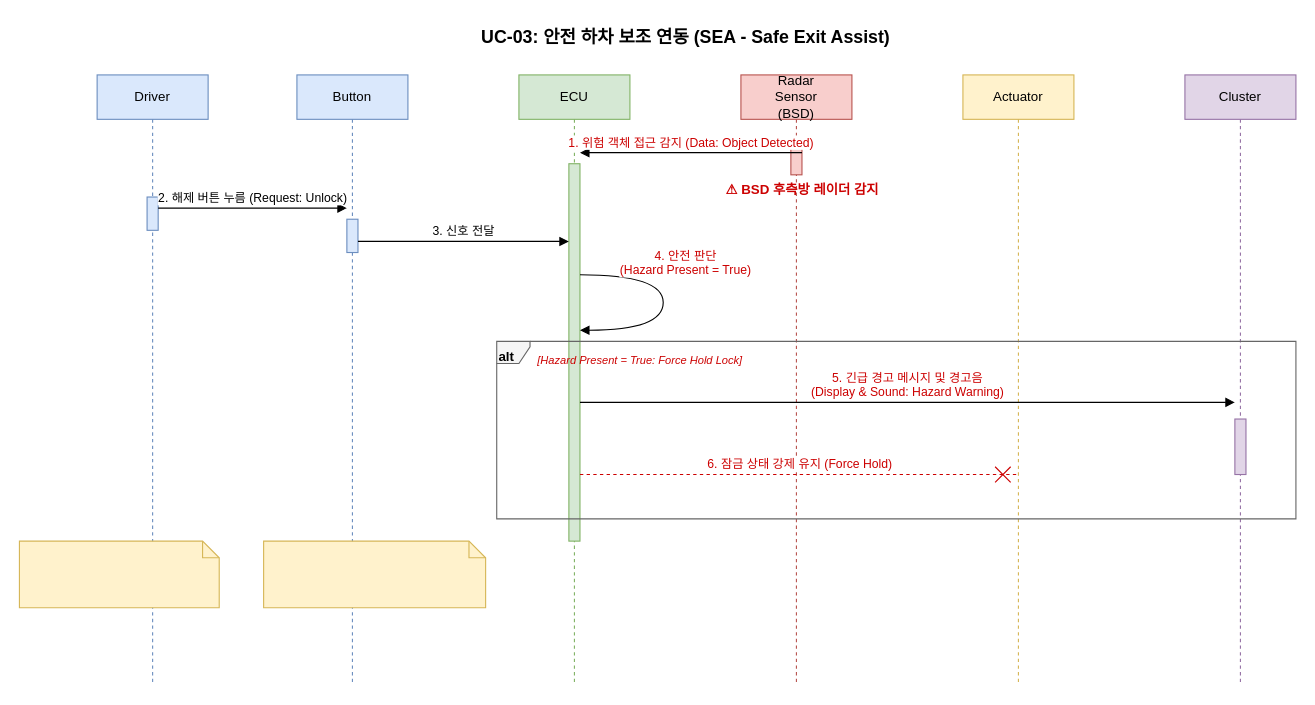
Some shapes in this 1315 by 705 pixel diagram are drawn without their labels. The centre of each missing label's shape, as x and y in pixels:
Post-condition: 위험 요소 소멸 전까지 잠금 유지, 개문 사고 방지: point (374, 574)
Pre-condition: 차량 정차(0km/h), 후측방에서 객체 접근 중: point (118, 574)
